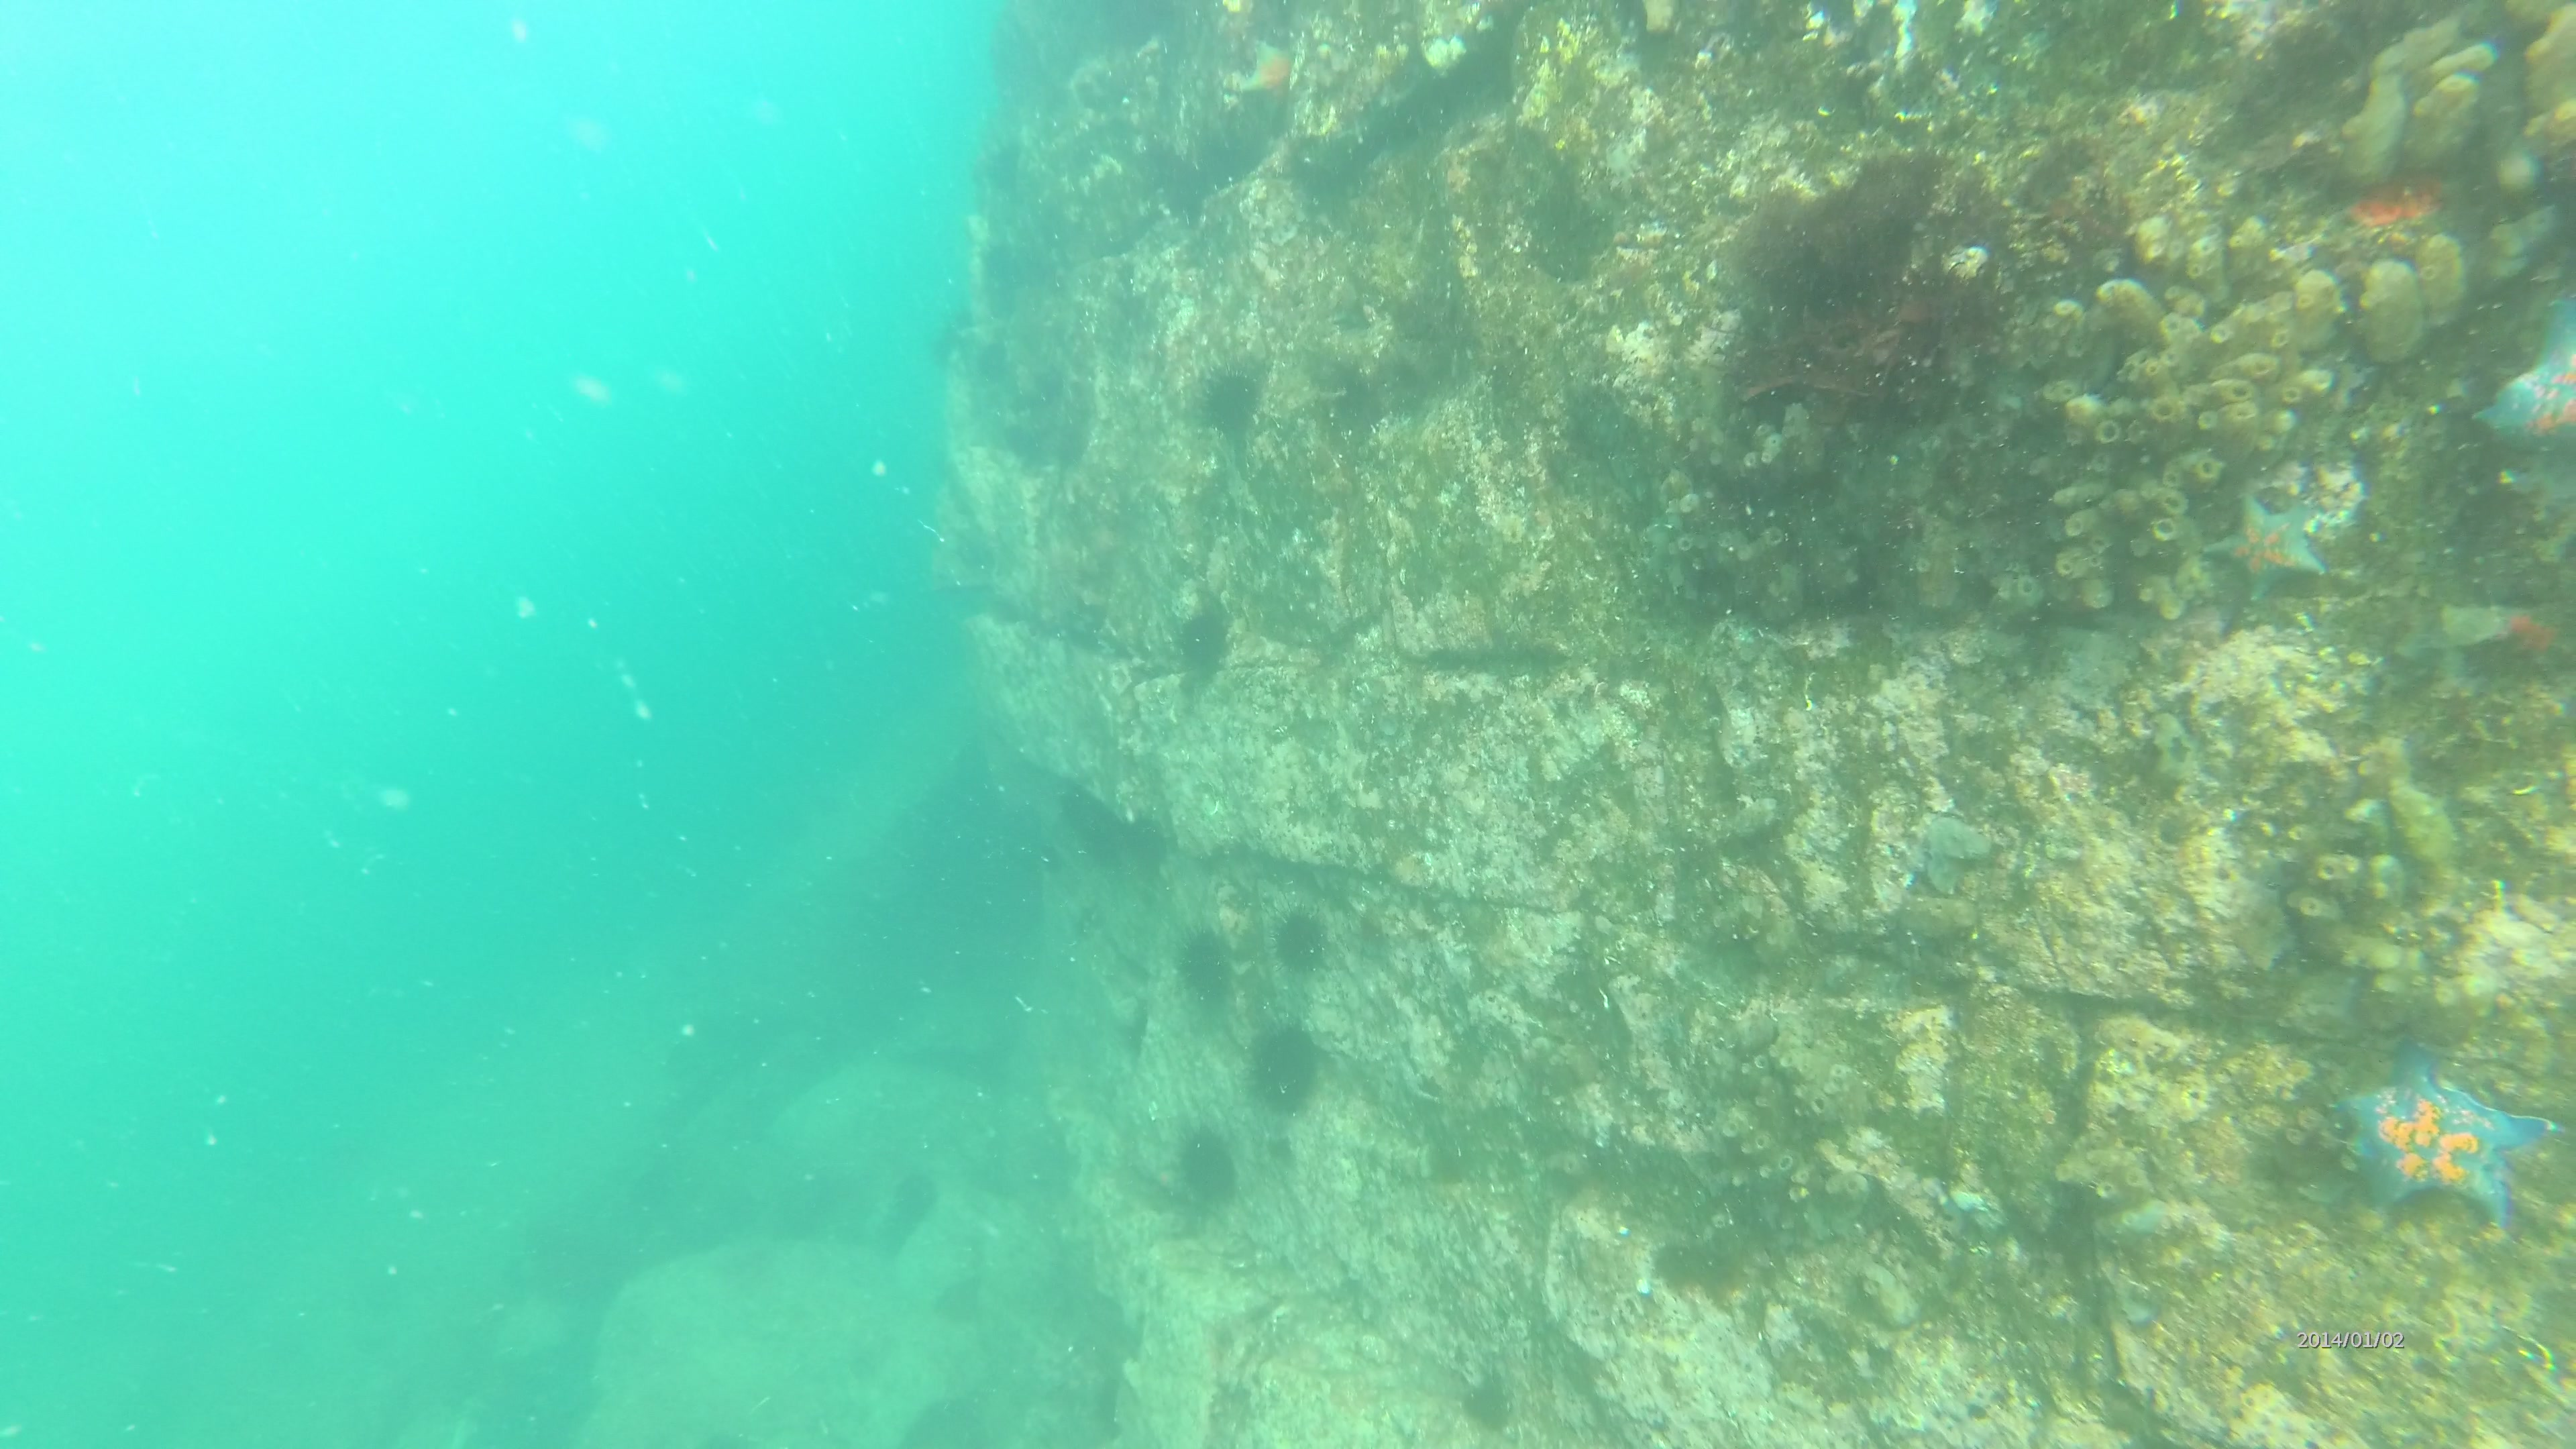echinus: (1244, 1019, 1323, 1116), (1168, 1122, 1235, 1208), (1175, 918, 1238, 1005), (1200, 372, 1265, 446), (1171, 605, 1238, 667), (1276, 908, 1327, 977)
starfish: (2332, 1053, 2567, 1221), (2479, 295, 2576, 472), (2201, 490, 2341, 596)
